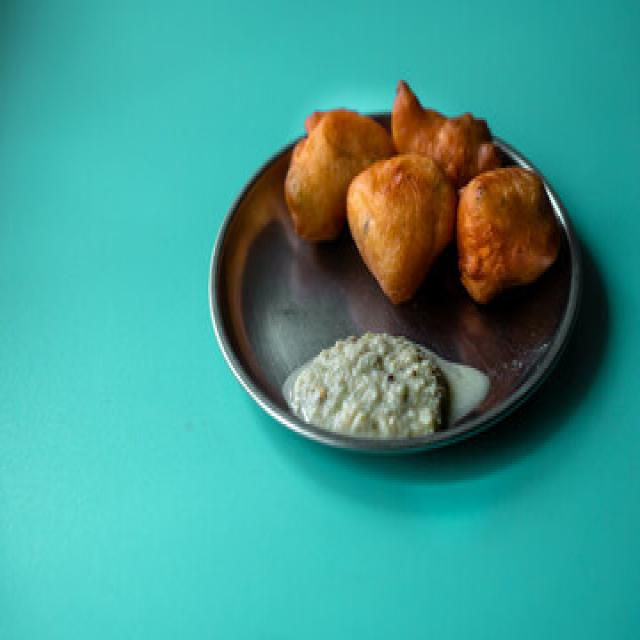BONDA: (283, 81, 564, 310)
WHITE CHUTNEY: (286, 333, 485, 437)
